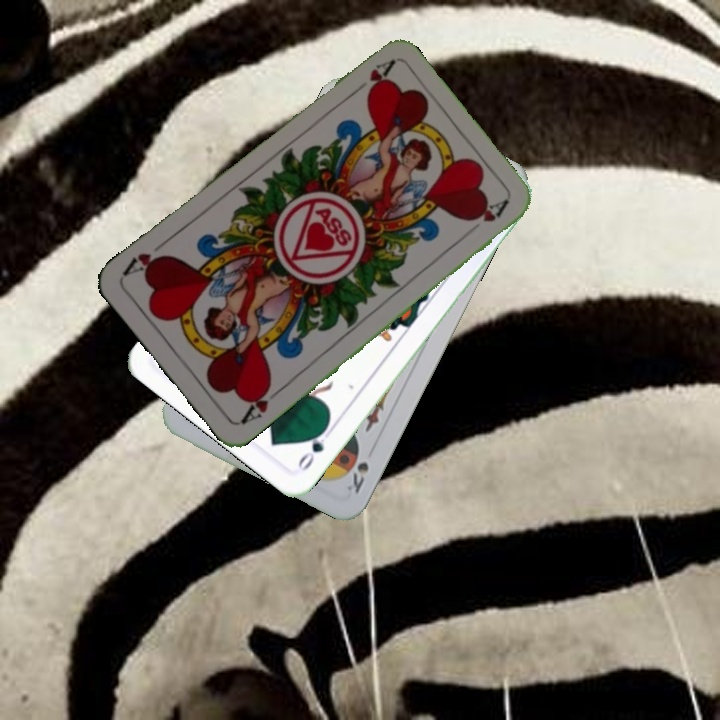GO: (293, 421, 336, 474)
HA: (236, 380, 286, 427), (346, 56, 397, 99)
SK: (342, 458, 372, 497)
